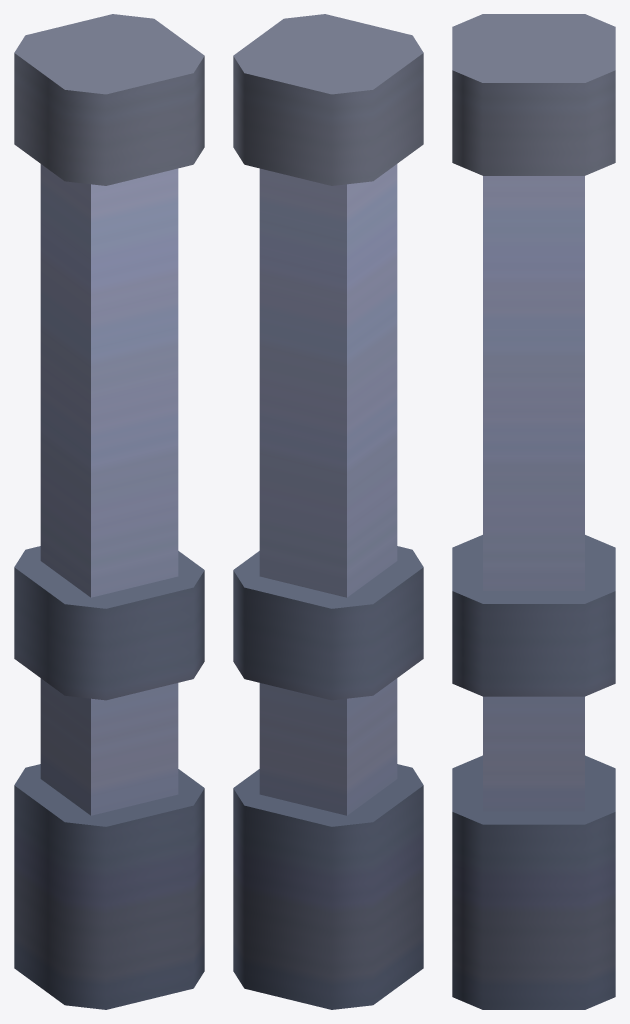
Rendered from pillar-stone.glb.
3 renders of one model, left to right at view 1: azimuth 30°, elevation 25°; view 2: azimuth 150°, elevation 25°; view 3: azimuth 270°, elevation 25°, orthographic.
Parts seen in each view (by area): view 1: pillar-stone; view 2: pillar-stone; view 3: pillar-stone.
Boxes of the visible parts, bbox=[...] form: pillar-stone: bbox=[14, 14, 204, 1009]; pillar-stone: bbox=[233, 14, 423, 1009]; pillar-stone: bbox=[452, 14, 615, 1009].
Size of the model in its own units: 0.16 by 1 by 0.16.
1 material, 1 textured.
